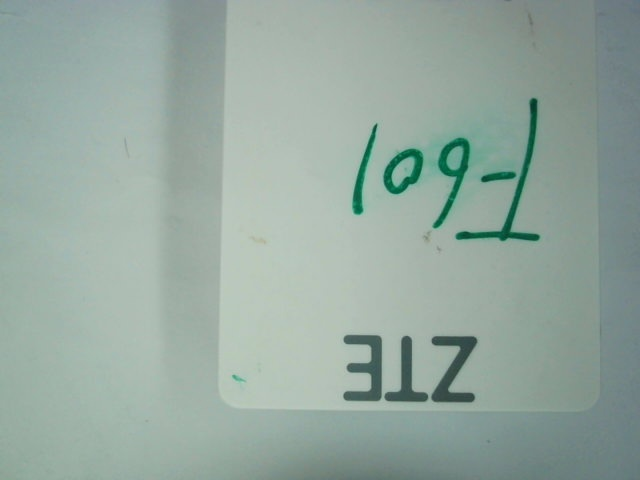AN_ZTE: (335, 330, 487, 406)
